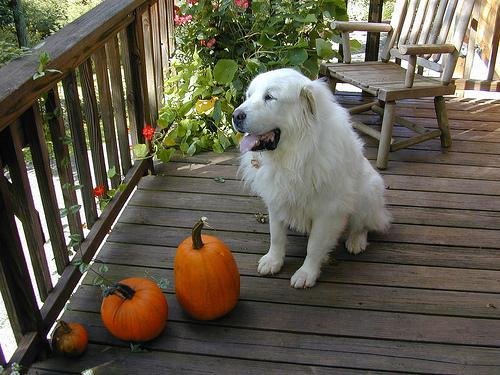Great_Pyrenees: (232, 69, 395, 288)
